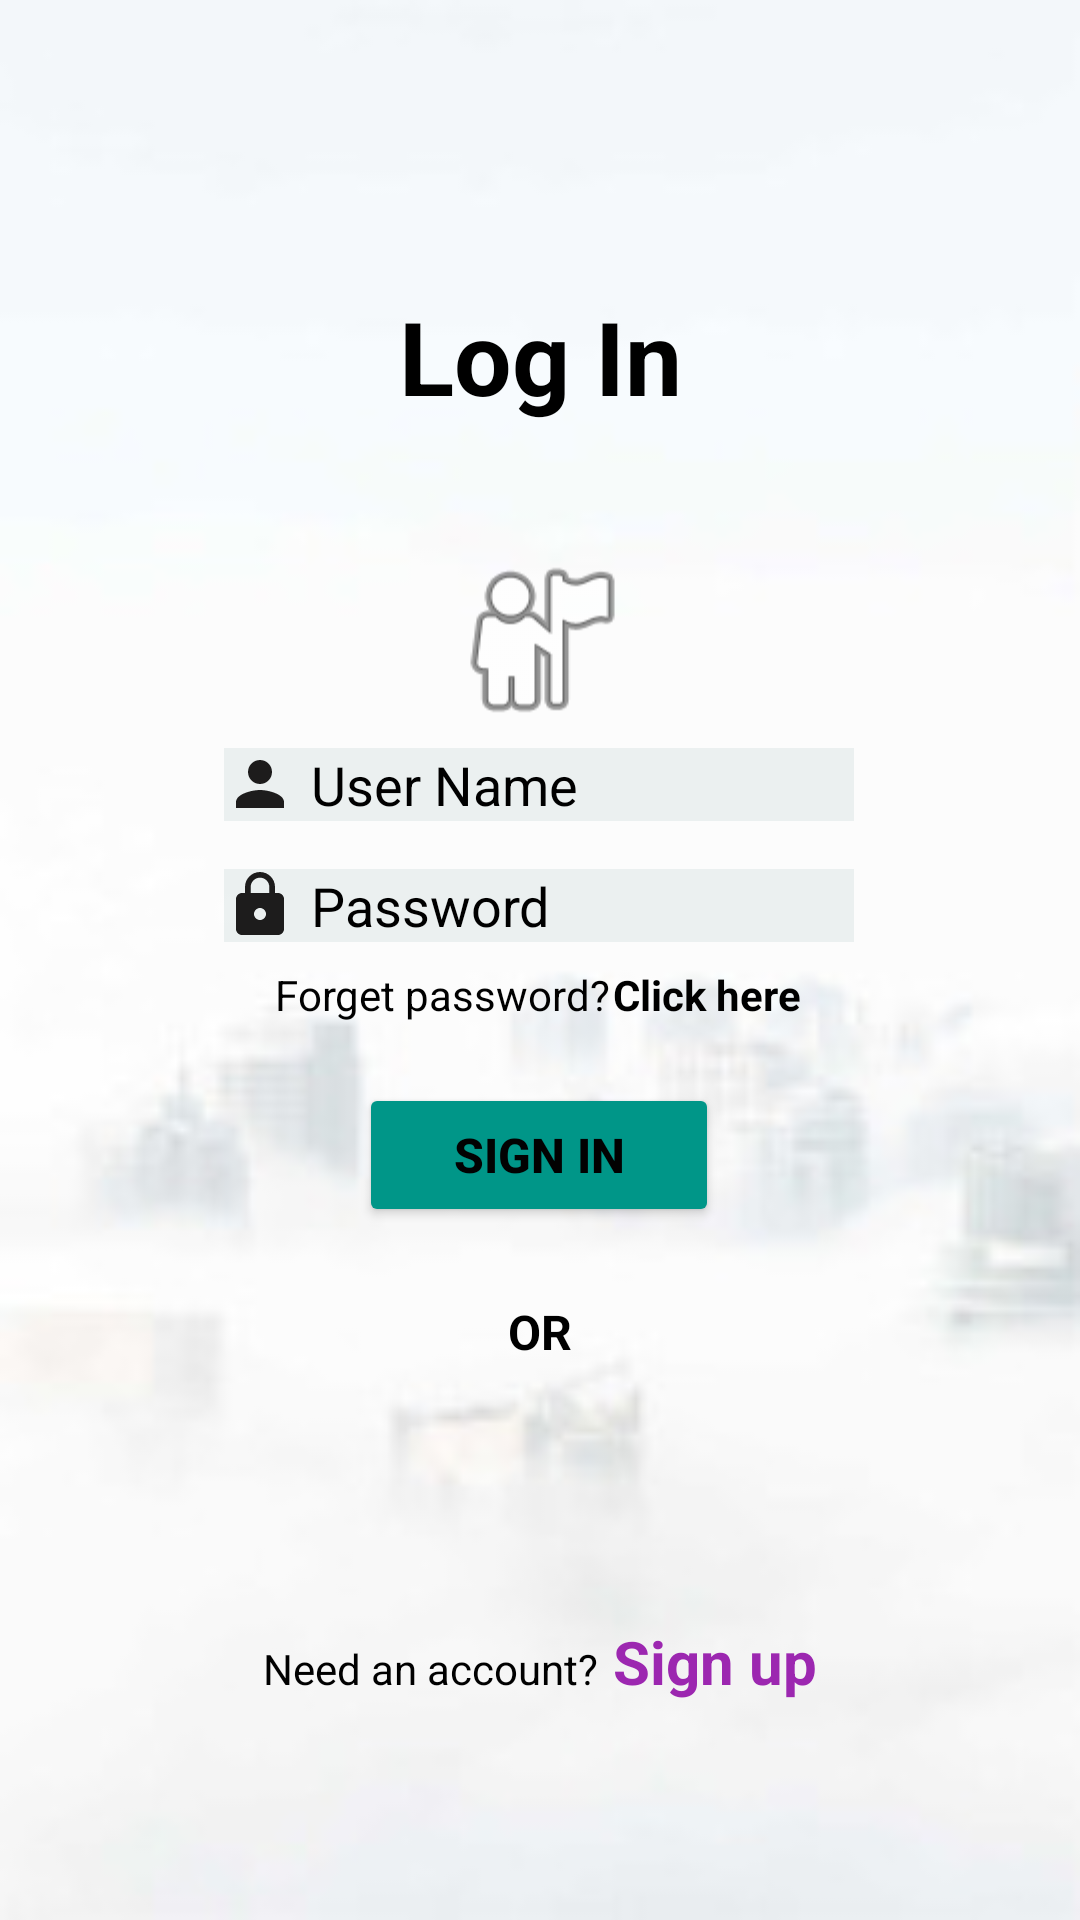

Where to tap for icons on this 1080×1920 app screen, as (x,y):
myplaces: (542,640)
